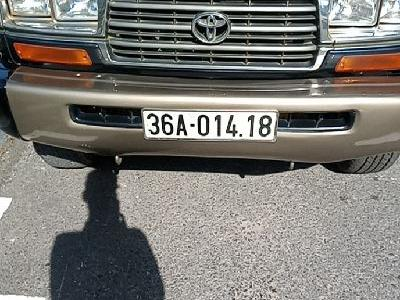lisence: (140, 106, 279, 143)
